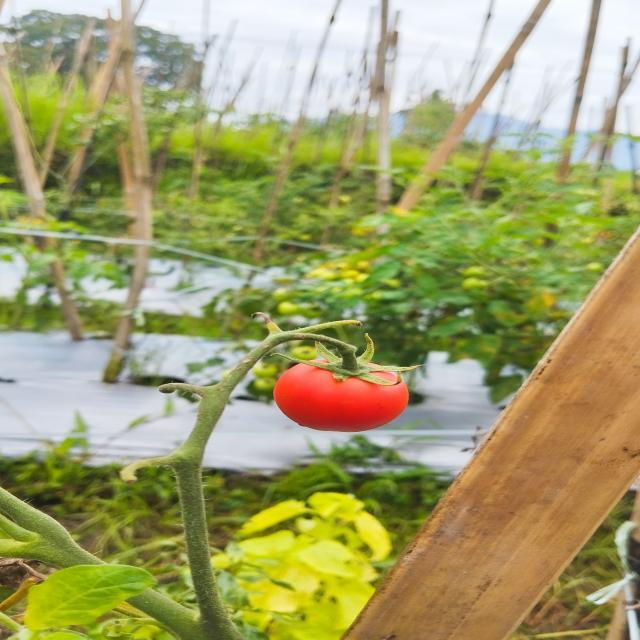Masak: (265, 338, 415, 442)
